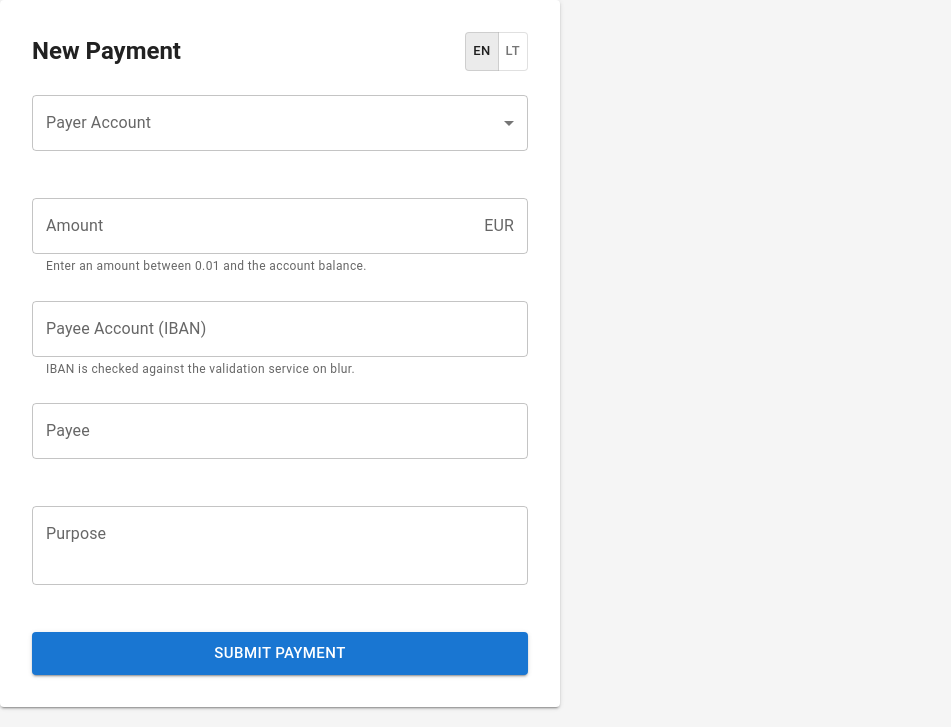
Scenario: PaymentForm › submit › blocks submission and surfaces validation errors when required fields are missing
This screenshot has width=951, height=727.
Click the button "Submit Payment": (280, 653) [32, 632, 528, 675]
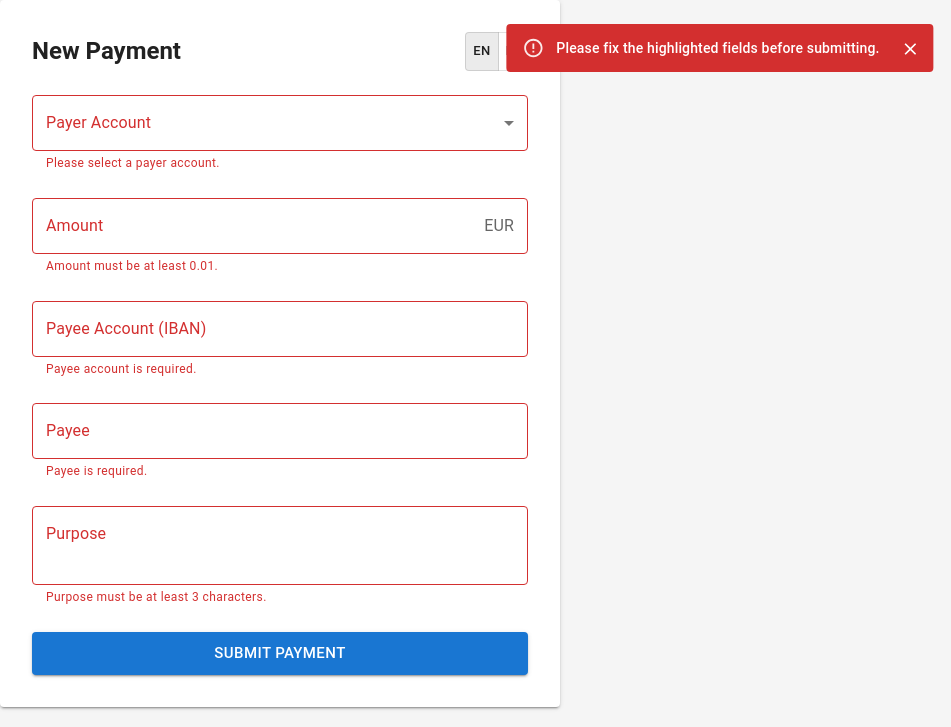
Result: the text "Please select a payer account." is shown at [46, 156, 220, 170]
